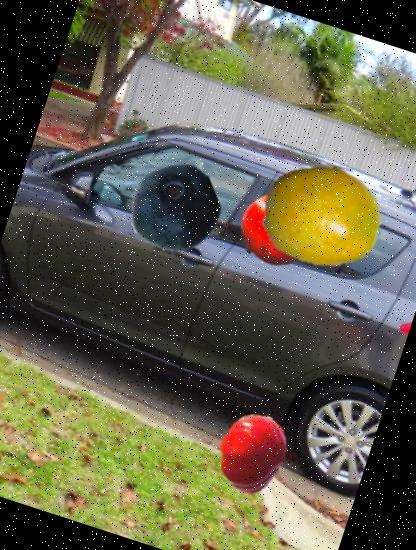Blueberry: (117, 152, 230, 266)
Kaki: (226, 184, 324, 280)
Maracuja: (246, 141, 397, 292)
Tomato: (199, 402, 302, 504)
